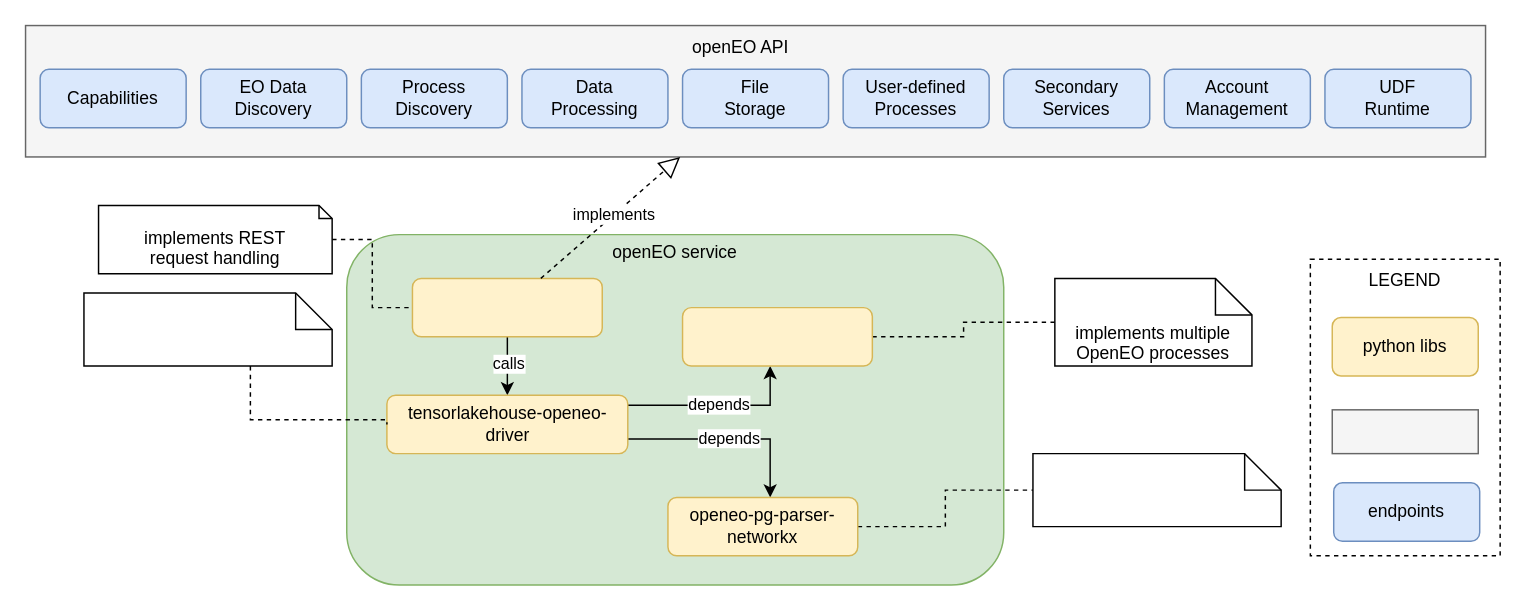
This 1526x612 diagram has some shape labels left out. The box of each missing label's shape, as (x1, y1, x2, y2) in pixels:
API Spec (abstract): (1331, 408, 1478, 454)
implements the functionalities: (82, 292, 332, 366)
manipulates process graph: (1031, 452, 1281, 527)
openeo-processes-dask: (681, 306, 872, 366)
openeo-python-driver: (411, 277, 602, 337)
